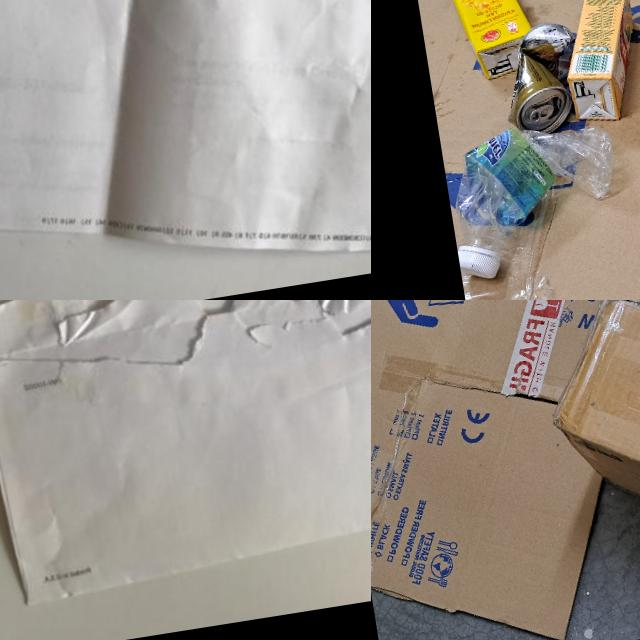caixinha: (555, 0, 640, 125), (446, 0, 538, 84)
garrafa plástica: (440, 113, 630, 287)
lata: (497, 15, 588, 136)
papel: (0, 300, 371, 607), (0, 0, 371, 300)
papelão: (371, 300, 640, 640), (399, 0, 640, 300), (519, 300, 640, 640)
tampa plástica: (457, 234, 508, 284)
